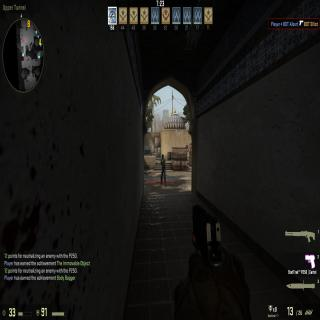T-Body: (160, 154, 166, 185)
T-Head: (160, 154, 164, 160)
